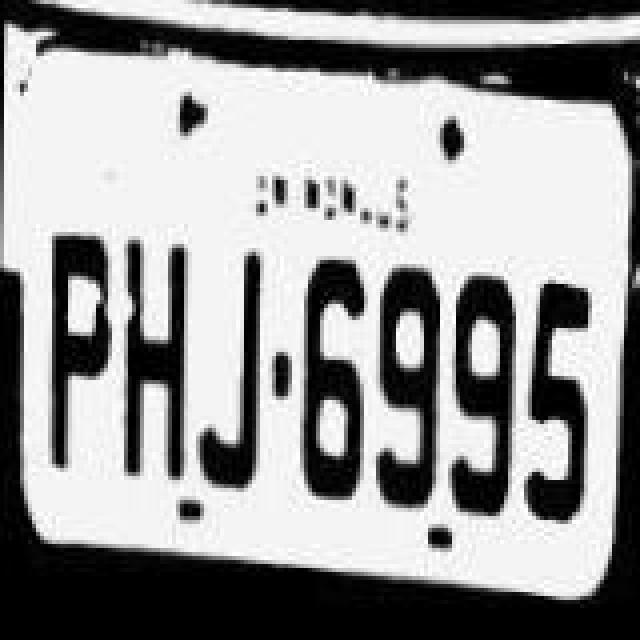5: (514, 270, 594, 526)
6: (292, 250, 376, 502)
9: (366, 256, 446, 516), (444, 260, 520, 516)
H: (114, 234, 198, 494)
J: (194, 242, 270, 494)
P: (42, 218, 118, 478)
